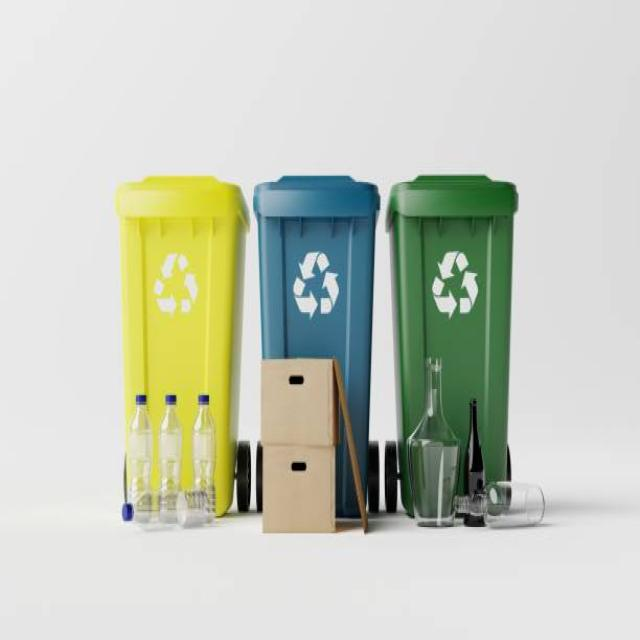cardboard: (248, 356, 377, 538)
glass: (384, 356, 532, 535)
plastic: (114, 374, 223, 542)
